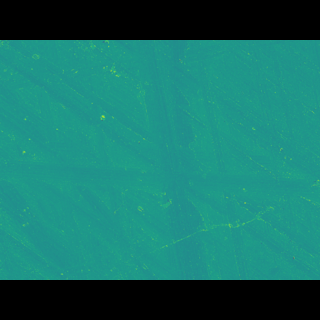Loch: (132, 69, 206, 250), (0, 157, 320, 191)
